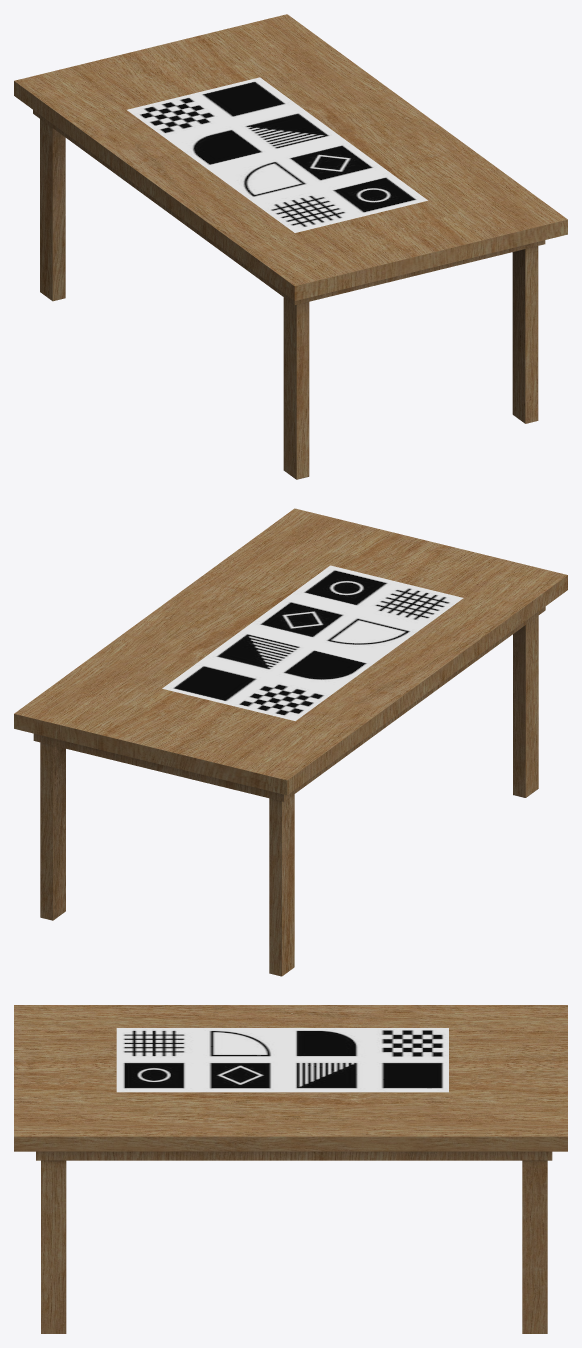
Rendered from table-shapes-1.glb.
3 renders of one model, top to bottom at view 1: azimuth 30°, elevation 25°; view 2: azimuth 150°, elevation 25°; view 3: azimuth 270°, elevation 25°, orthographic.
Parts seen in each view (by area): view 1: skppH0rwK1, Model; view 2: skppH0rwK1, Model; view 3: skppH0rwK1, Model.
Boxes of the visible parts, x1,y1,x2,y2 form: skppH0rwK1: (14,14,567,479); Model: (127,77,427,232); skppH0rwK1: (14,508,567,976); Model: (162,565,463,721); skppH0rwK1: (14,1005,567,1333); Model: (116,1028,448,1092).
Size of the model in its own units: 22.14 by 16.24 by 39.37.
2 materials, 2 textured.
